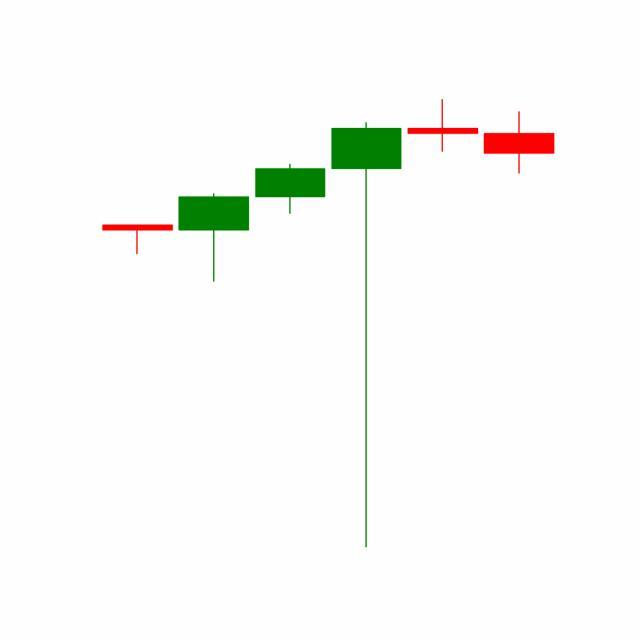Spinning Top: (404, 99, 482, 154)
